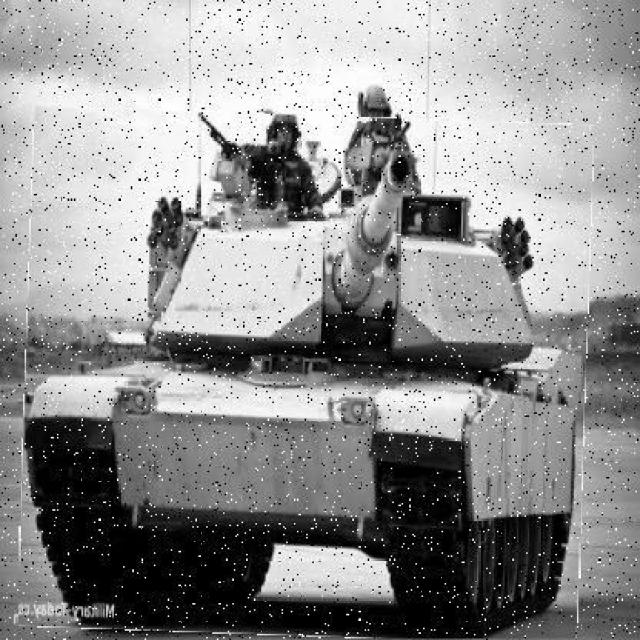Person: (226, 103, 326, 223), (337, 83, 420, 194)
Tank: (21, 112, 590, 639)
